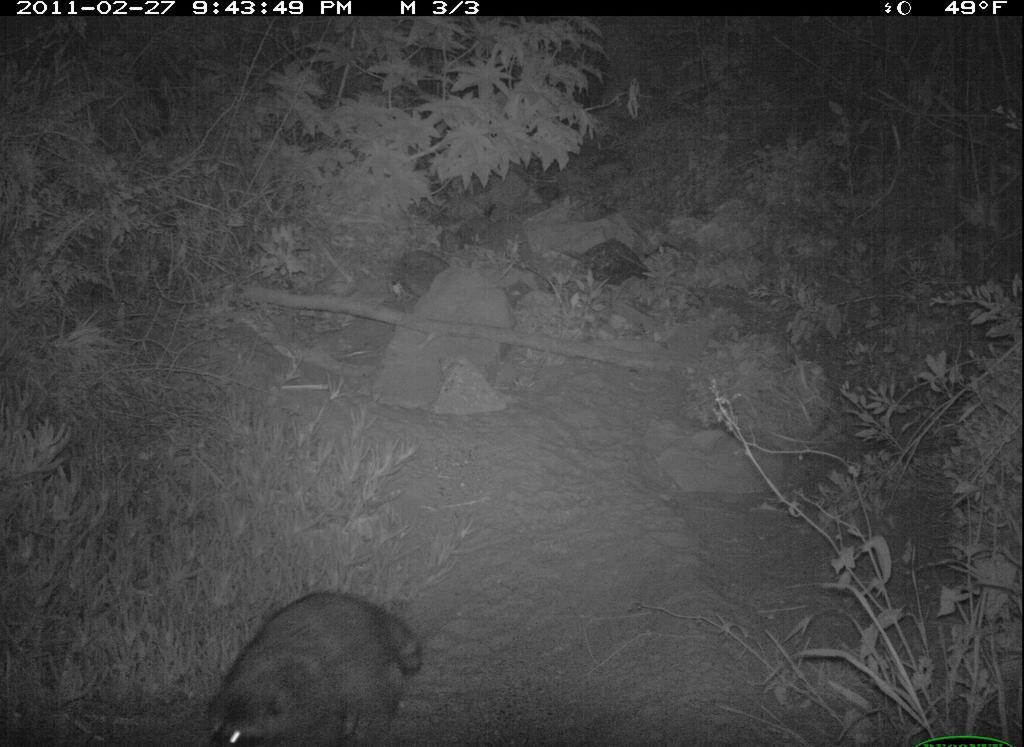raccoon: (201, 579, 442, 747)
